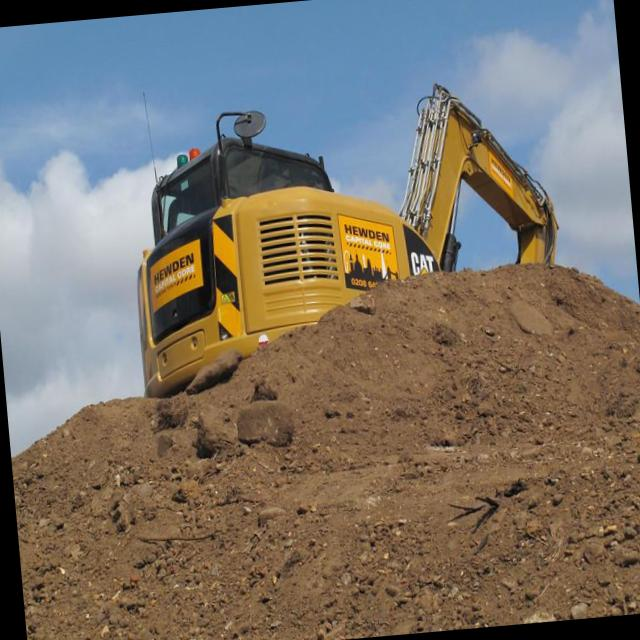Excavadora: (119, 72, 572, 414)
